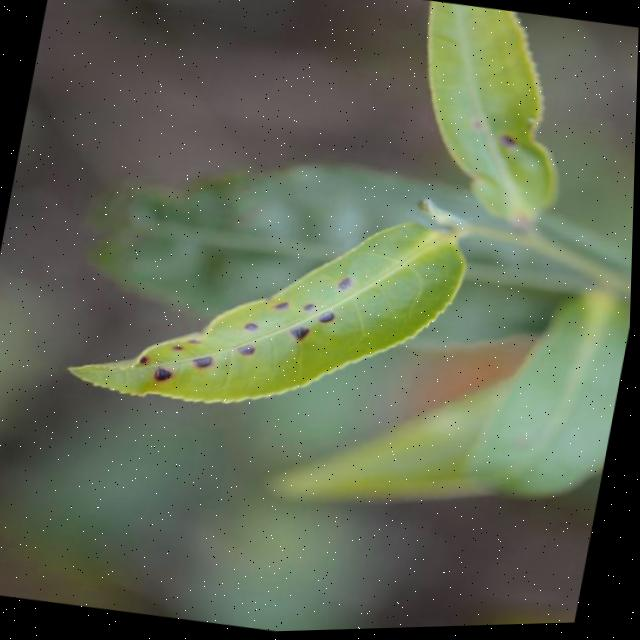Tea red scab: (264, 269, 368, 354), (132, 330, 238, 403), (476, 110, 544, 169), (225, 319, 282, 366)
